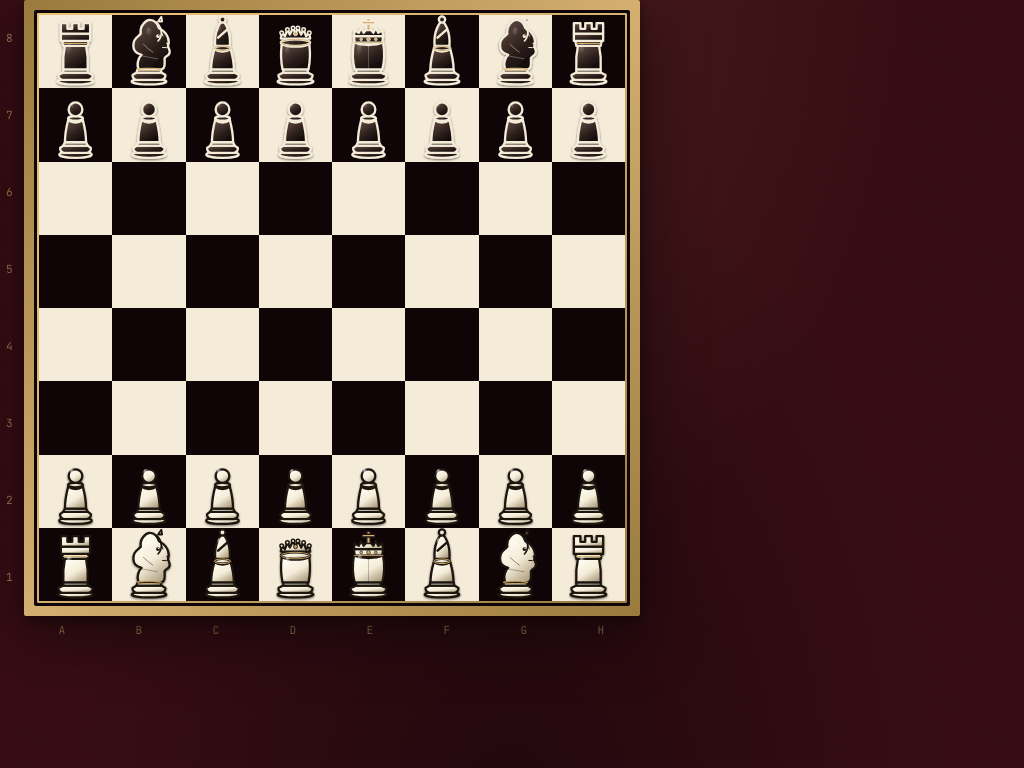
Scenario: Board › shows hover-hint dots on legal targets when hovering an own piece
# Hover white pawn on e2 — should see hover-dot on e3 and e4
Hover over the element with test id "square-e2".
mouse_move(369, 491)  # box [332,454,405,528]
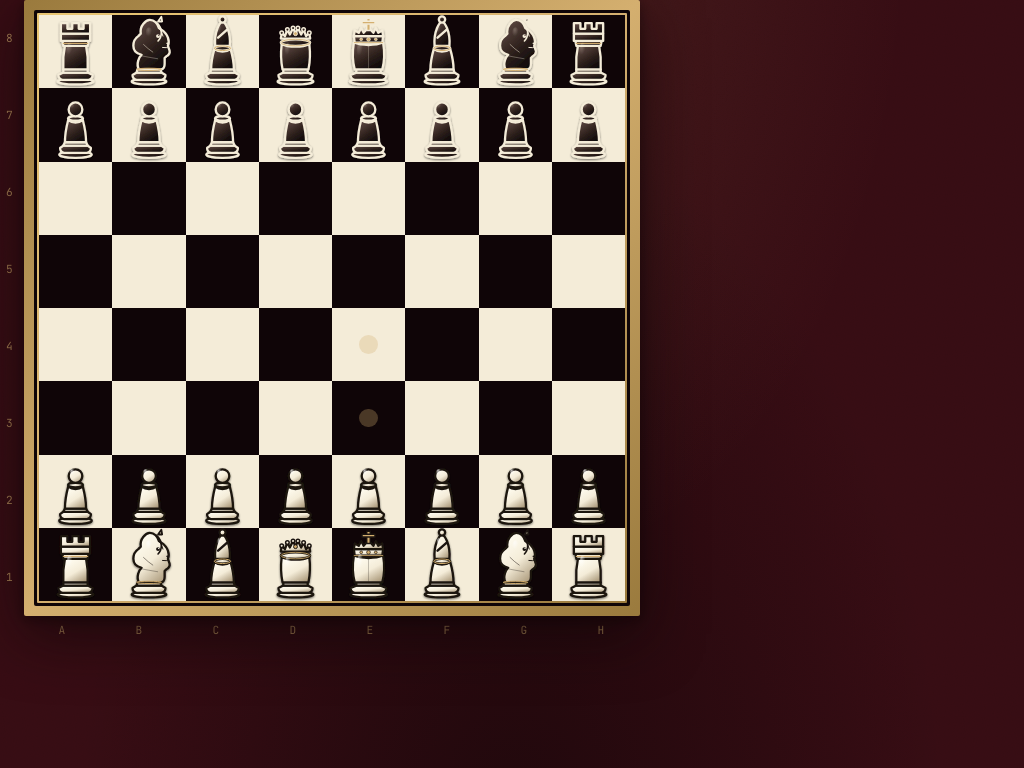
# Move away — hover dots should clear
Move the pointer off the element with test id "square-e2", box [332,454,405,528]
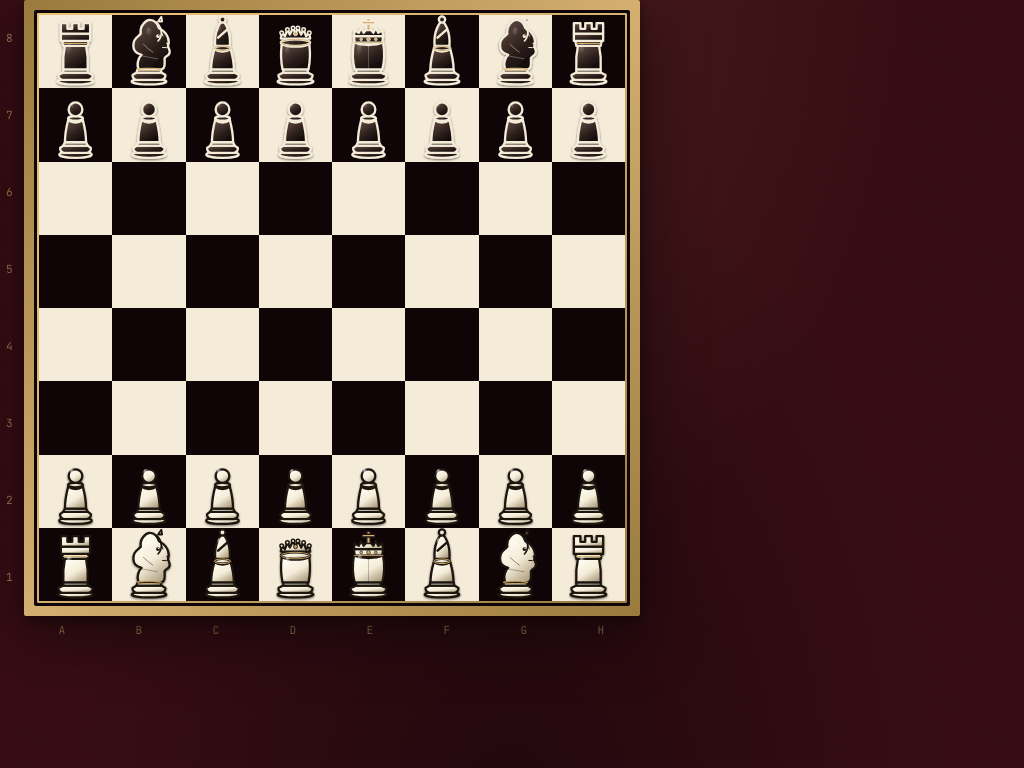
Expected: no elements with test id "hover-dot" are shown
